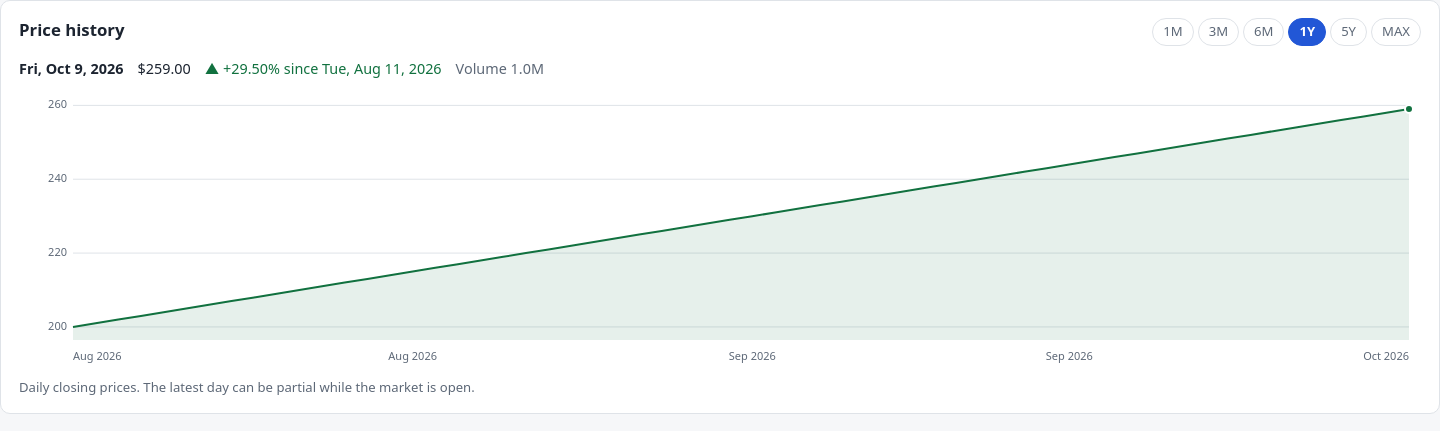
Test: PriceHistory › fetches a new range when a range button is pressed
The image size is (1440, 431).
Click the button "3M". click: (1218, 32)
box: x1=1198 y1=18 x2=1239 y2=46
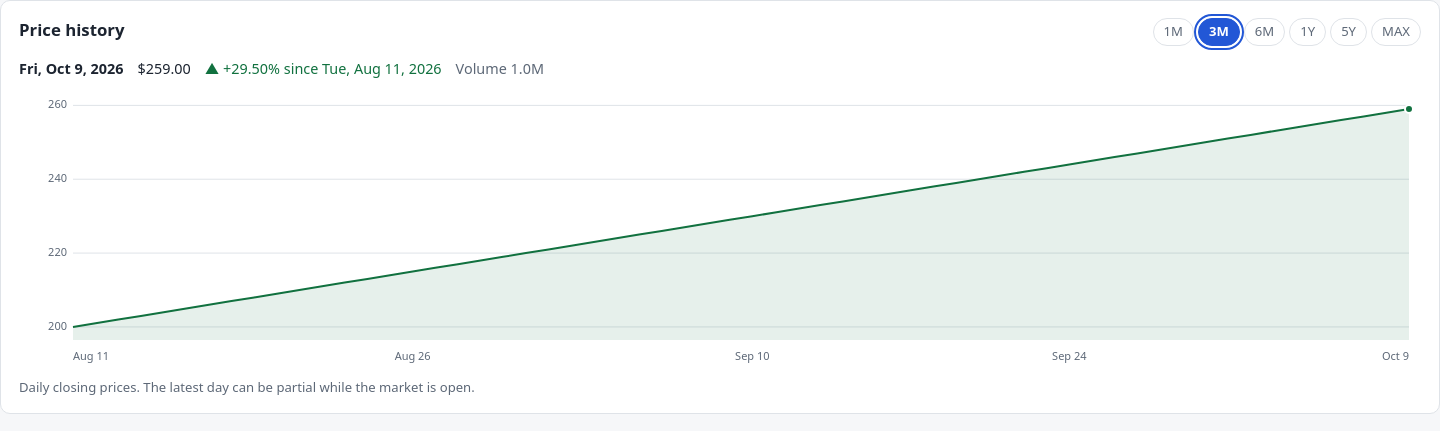
expect the picture named "over 3M" is shown: met
